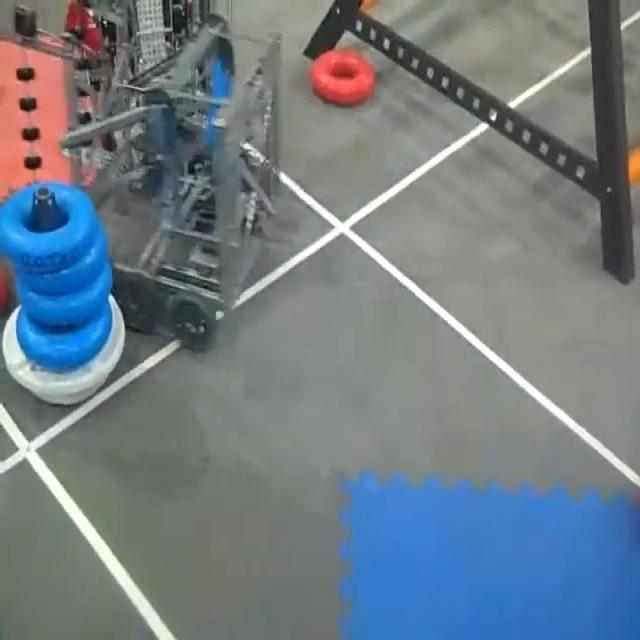Blue-Ring: (0, 183, 100, 272), (16, 297, 111, 372), (21, 262, 111, 328), (18, 232, 110, 295)
Red-Ring: (311, 48, 375, 105)
